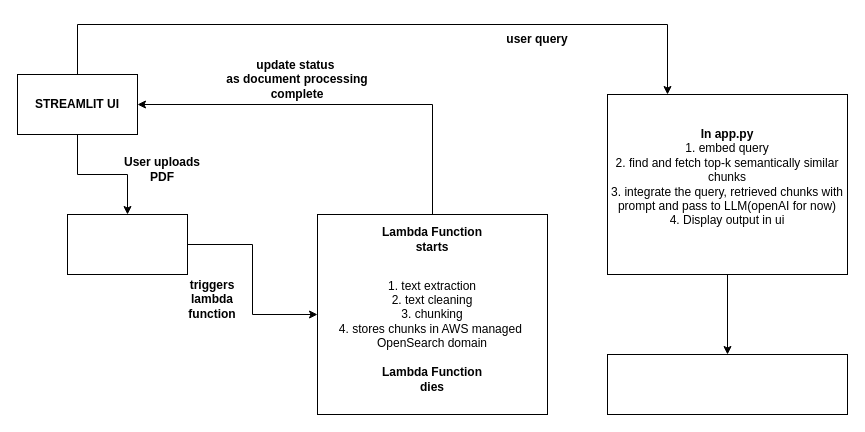
Image size: 865x432. Some labels were removed from this diagram. Each missing label, with the box of its shape:
File is stored in S3: (66, 214, 188, 274)
Upon succesful execution of pipeline push metadata to mongo: (606, 354, 848, 414)
